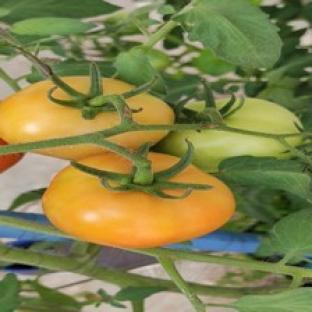Tomato: (42, 165, 235, 247), (0, 81, 119, 143), (156, 129, 286, 172), (0, 154, 23, 172)
